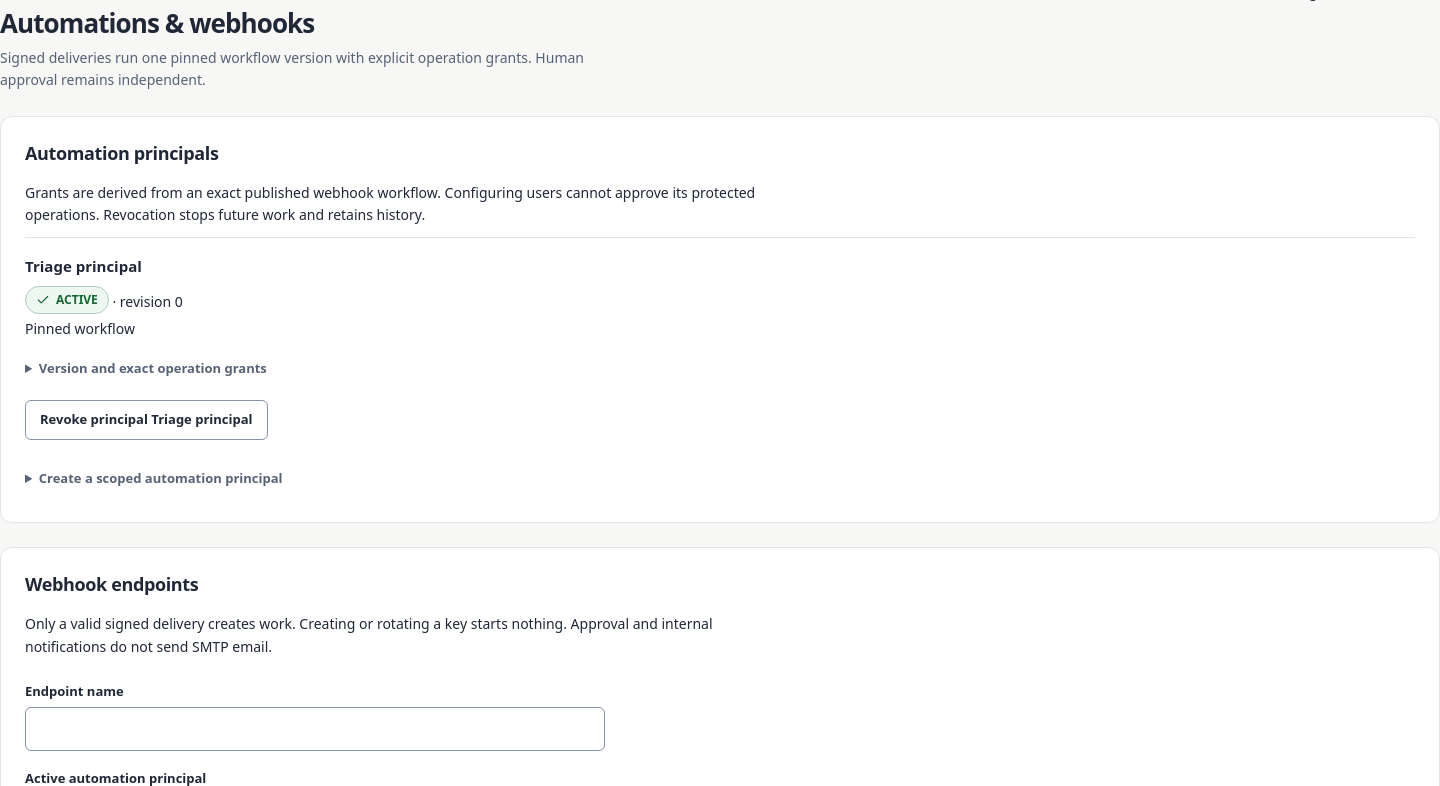
Test: requires explicit endpoint confirmation and keeps one-time keys out of query and persistent storage
The width and height of the screenshot is (1440, 786).
Type "New endpoint" into the field labelled "Endpoint name" at (315,730), box [25,708,605,752]
(page scrolled)
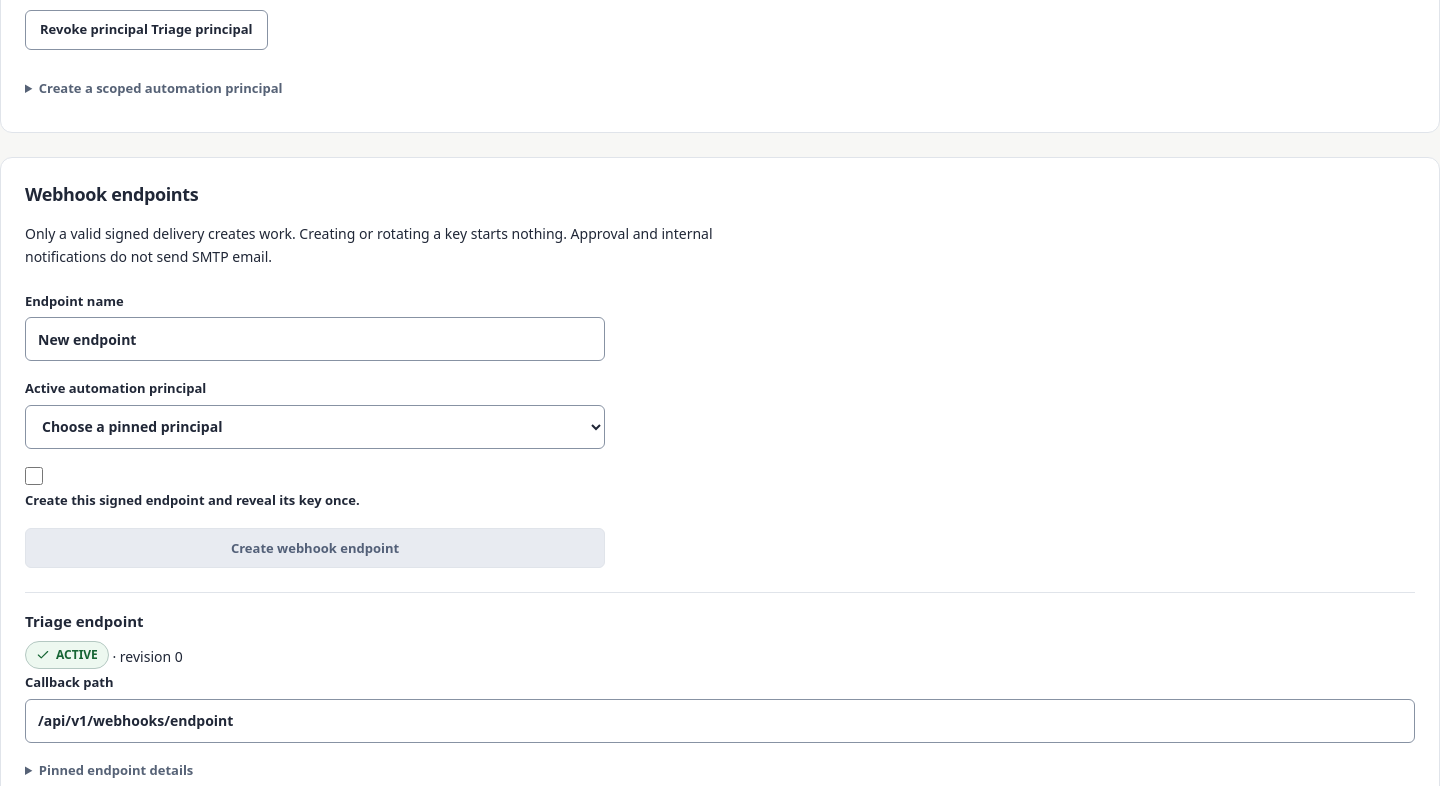
Select "Triage principal" in the dropdown labelled "Active automation principal" at (315,427), box [25,405,605,449]
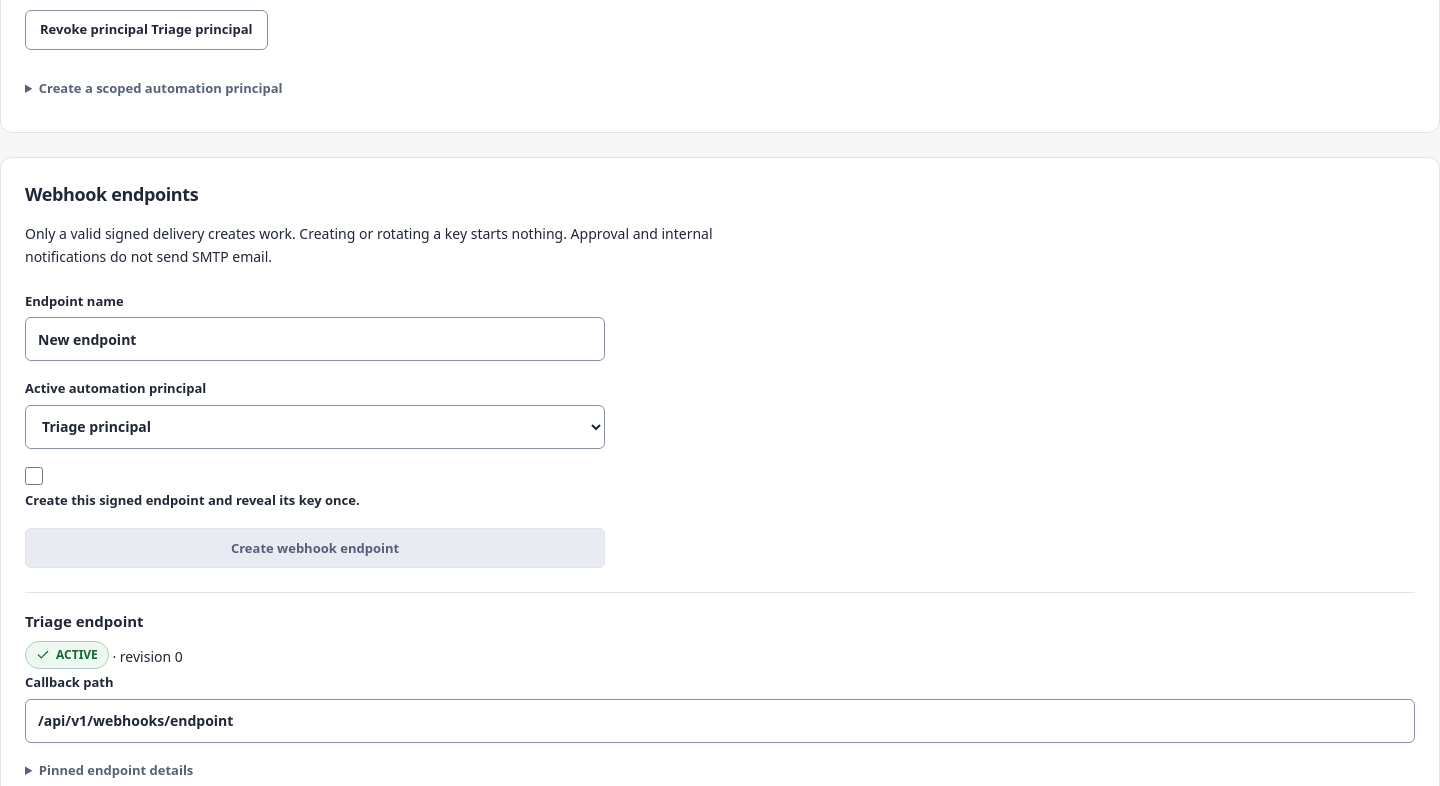
Expected: the button "Create webhook endpoint" is disabled, [25,528,605,568]
Click the checkbox labelled "Create this signed endpoint and reveal its key once." at (34,476), box [25,467,43,485]
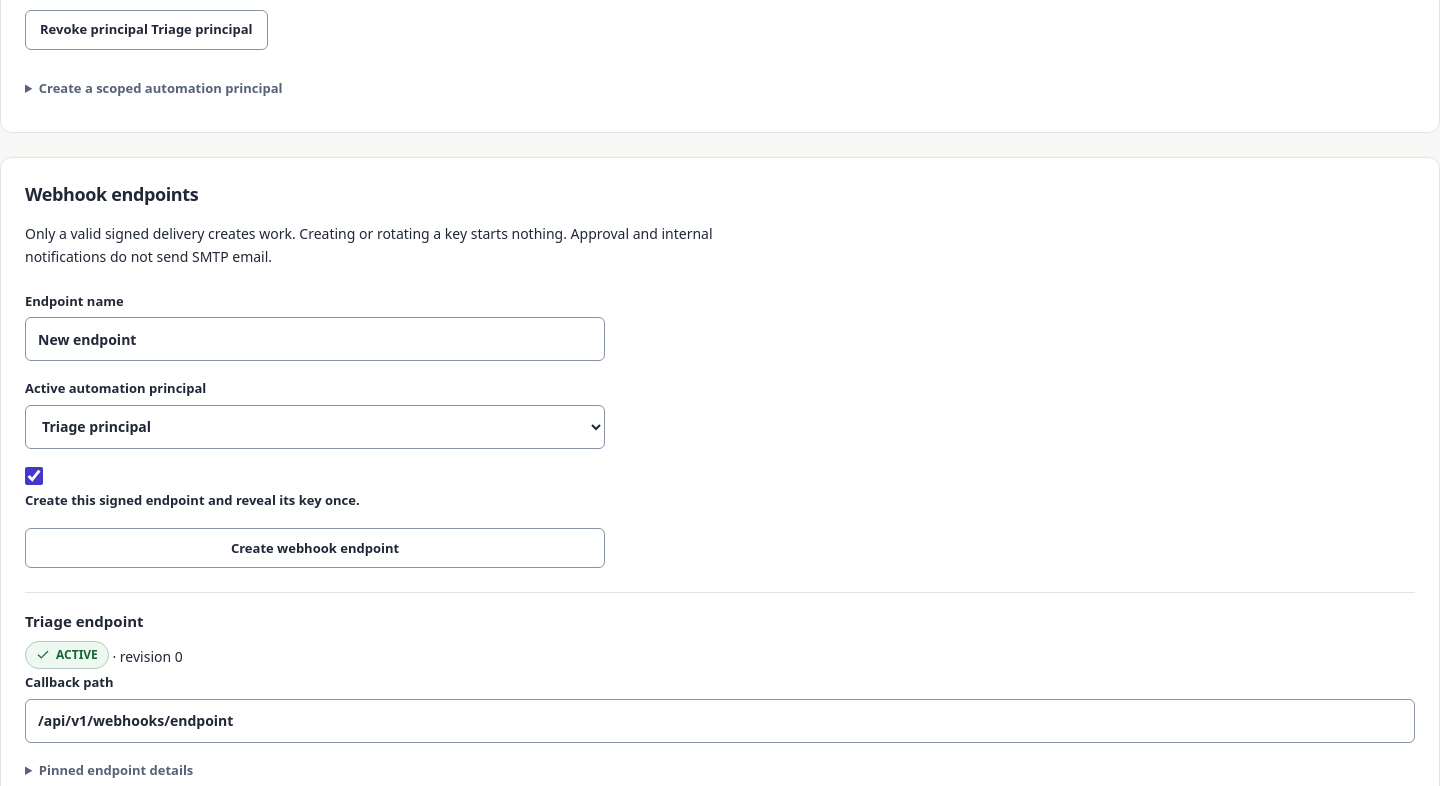
Click the button "Create webhook endpoint" at (315,548), box [25,528,605,568]
(page scrolled)
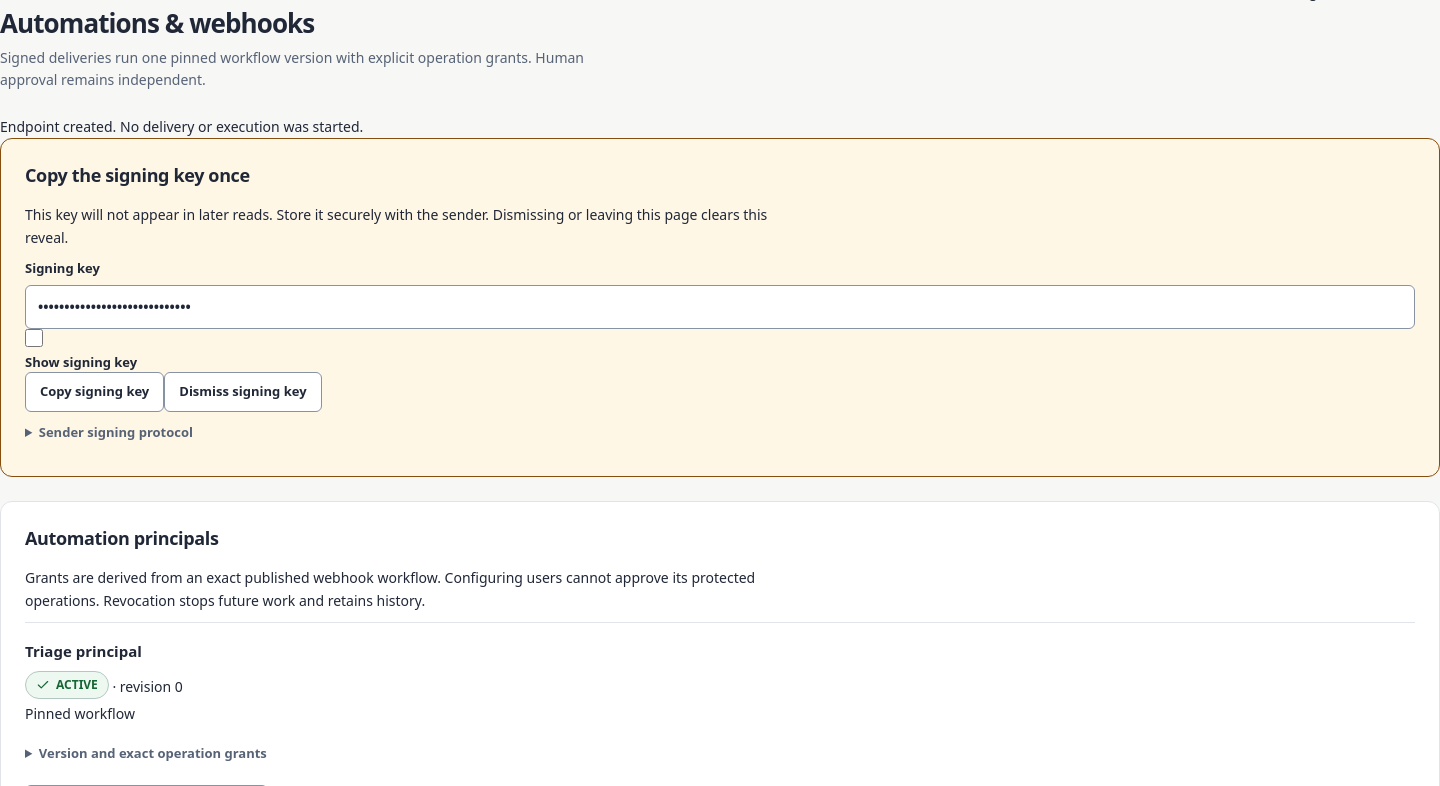
Expected: the password field labelled "Signing key" holds "synthetic-one-time-key-canary", [25,285,1415,329]
Click the button "Dismiss signing key" at (243,392), box [164,372,322,412]
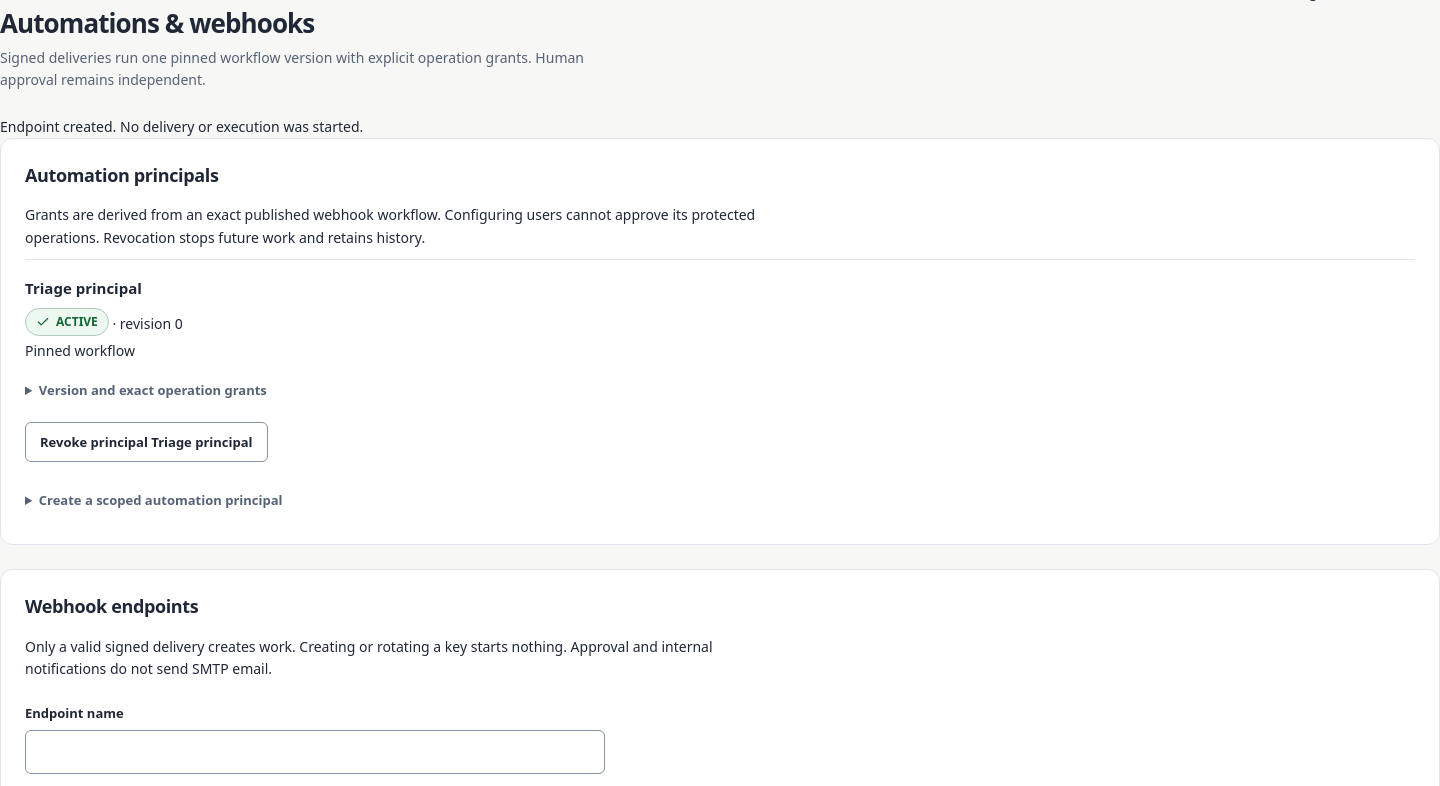
Expected: the heading labelled "signing key" is gone
